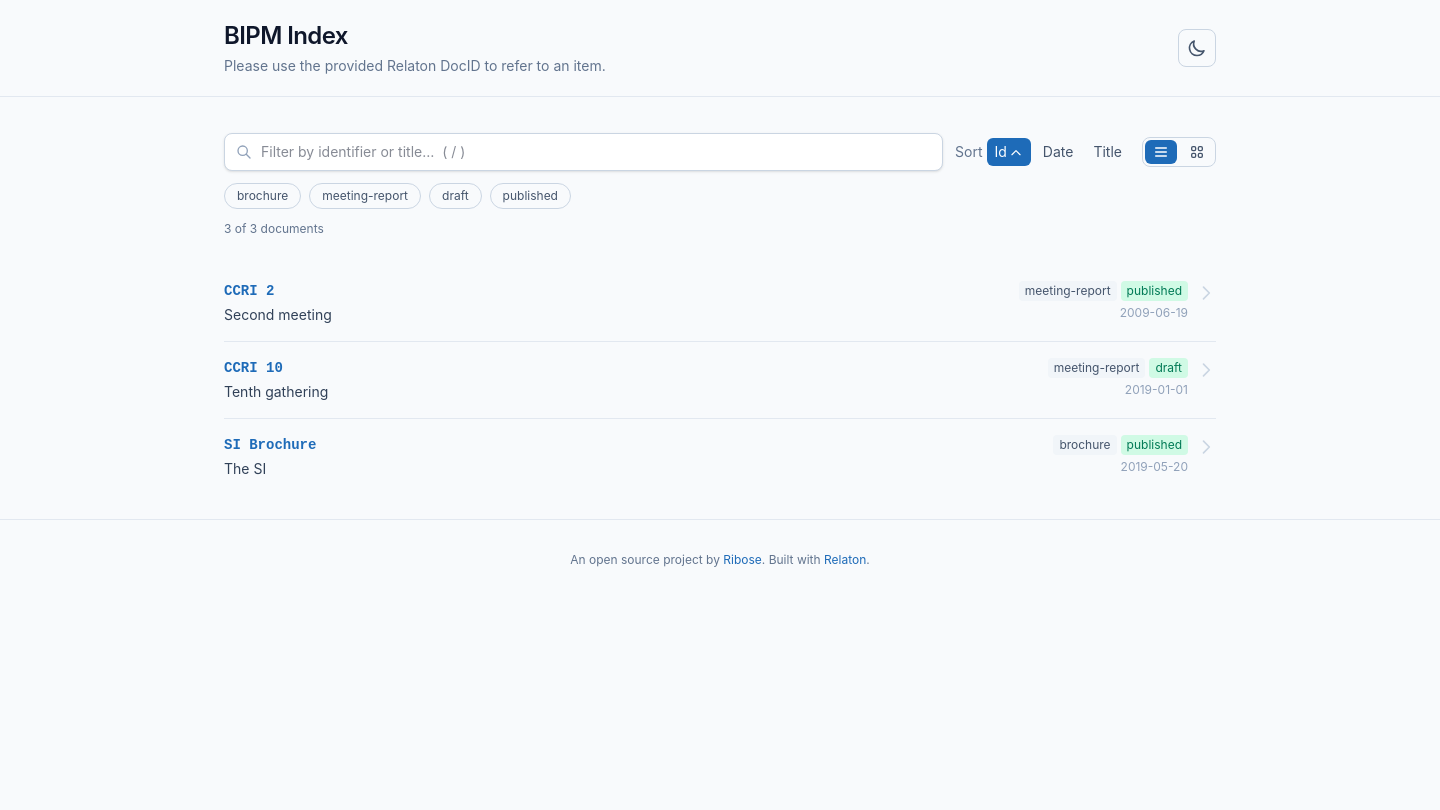
Test: App island › filters by the search query
Type "brochure" into the search field with placeholder "Filter by identifier or title… ( / )" at (584, 152), box [224,133,943,171]
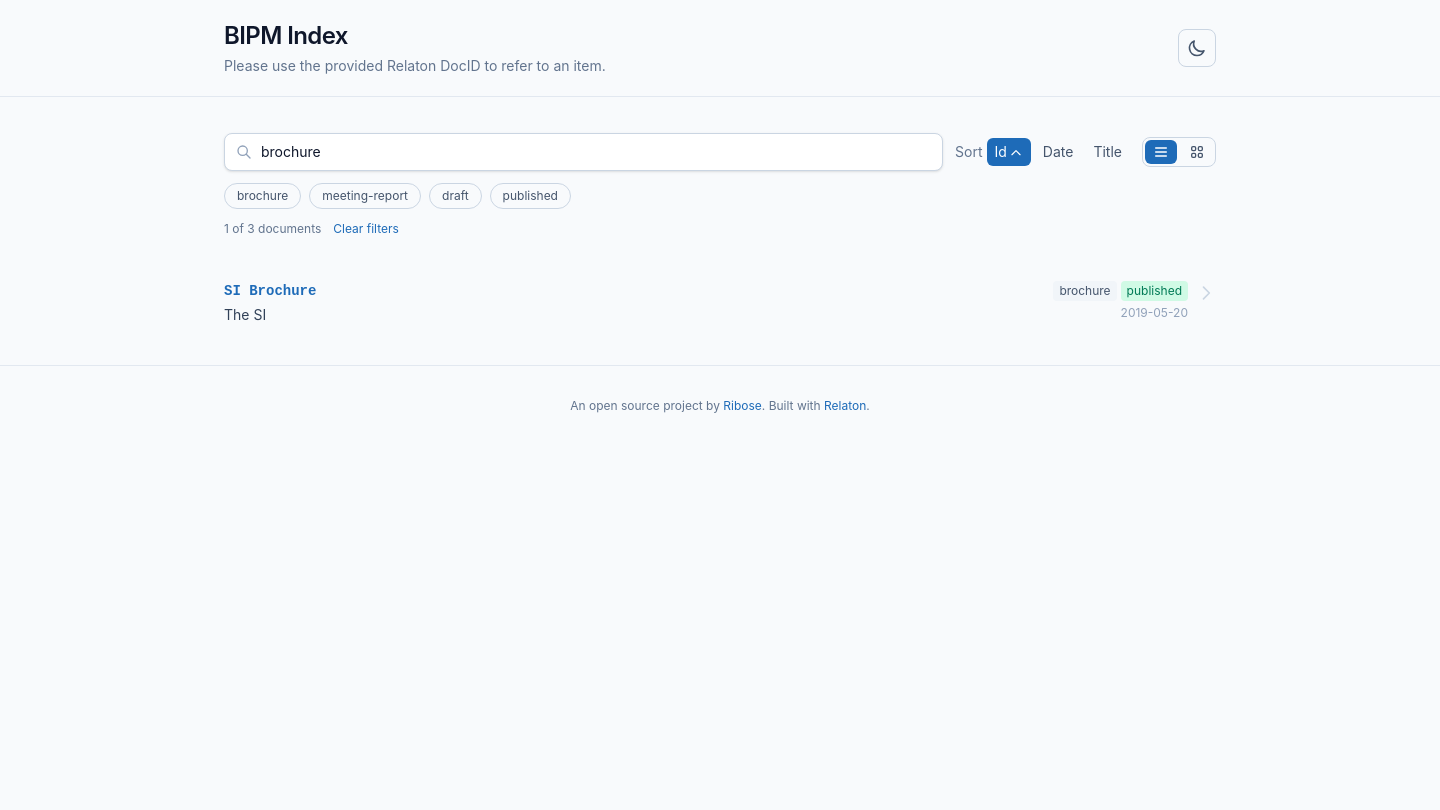
Expected: the text "The SI" is shown, [224,306,266,323]
Result: the number of elements with class "document" is 1 at [224,281,1216,323]
